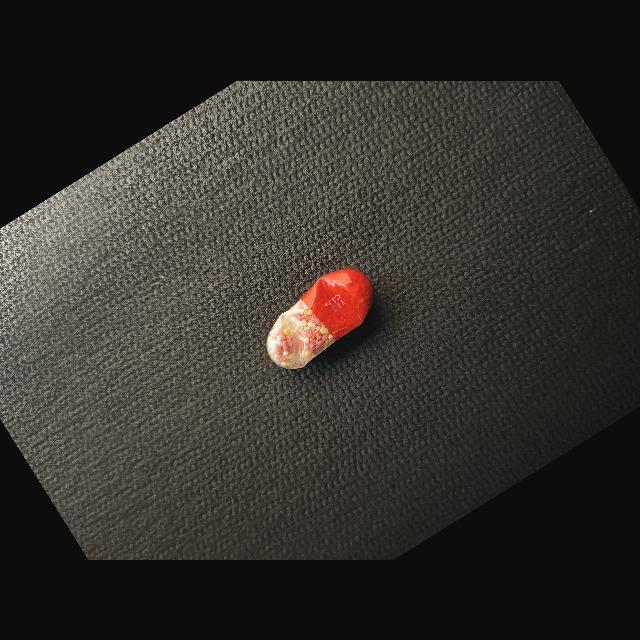Defective Capsule: (266, 268, 373, 368)
